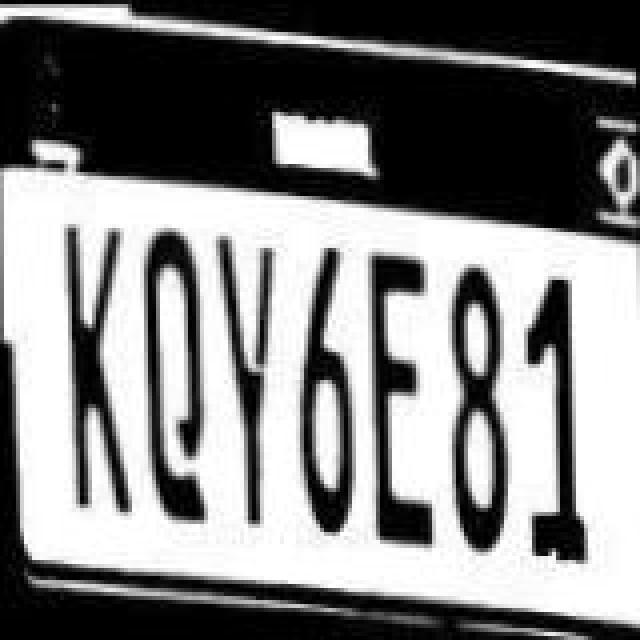1: (522, 272, 590, 564)
6: (294, 238, 362, 538)
8: (446, 264, 514, 560)
E: (370, 246, 438, 542)
K: (60, 214, 136, 526)
Q: (138, 220, 210, 524)
Y: (216, 228, 284, 532)
